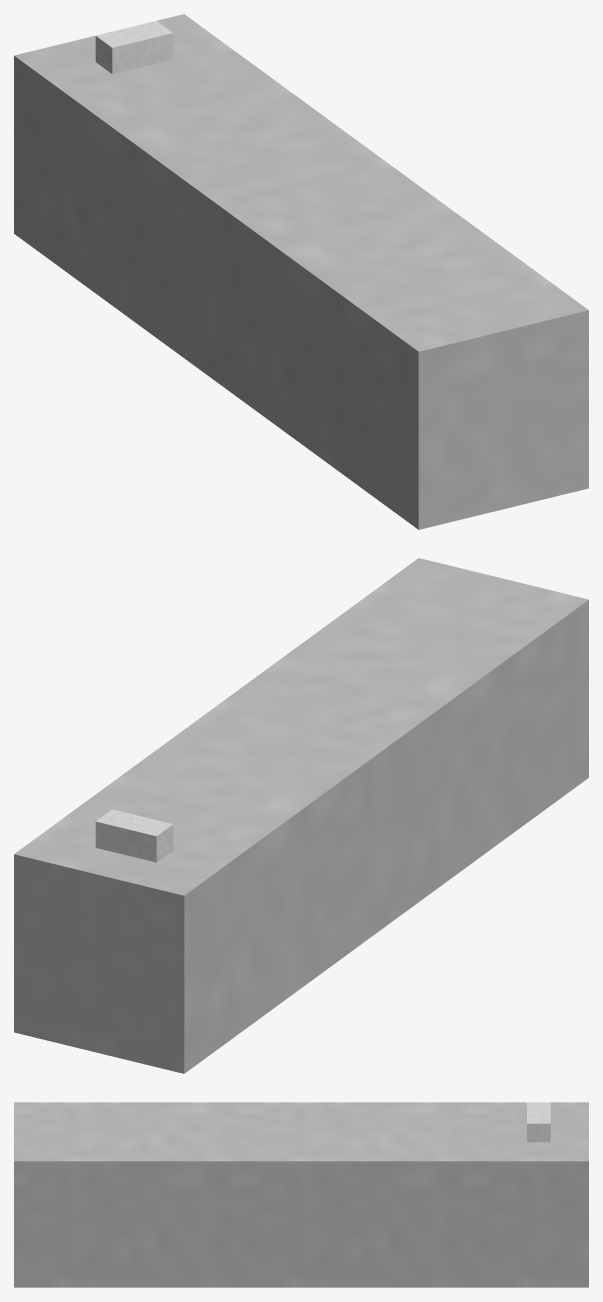
The model's file is Pistol.fbx.
The picture shows the model from 3 angles, top to bottom: view 1: azimuth 30°, elevation 25°; view 2: azimuth 150°, elevation 25°; view 3: azimuth 270°, elevation 25°; orthographic projection. The views are drawn at different scales.
Parts seen in each view (by area): view 1: Pistol Base, Pistol Slide; view 2: Pistol Base, Pistol Slide; view 3: Pistol Base, Pistol Slide.
Boxes of the visible parts, bbox=[...] form: Pistol Base: bbox=[14, 14, 588, 529]; Pistol Slide: bbox=[95, 21, 173, 73]; Pistol Base: bbox=[14, 558, 588, 1073]; Pistol Slide: bbox=[95, 809, 173, 862]; Pistol Base: bbox=[14, 1102, 588, 1287]; Pistol Slide: bbox=[527, 1102, 550, 1142].
Bounding box in the file's own units: 34 × 39.02 × 140.
Materials: 2 (2 with a texture image).
